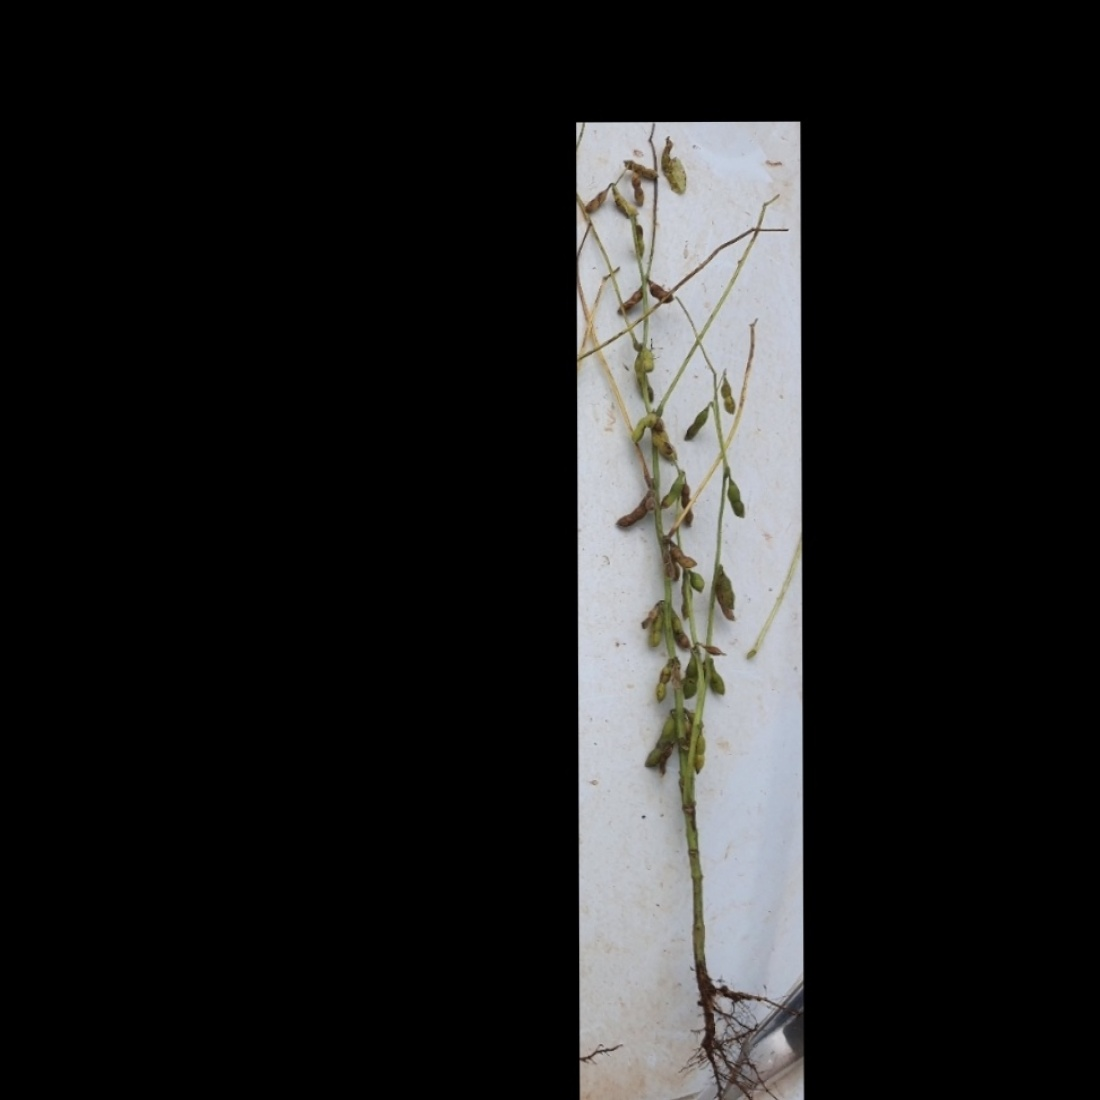pod: (609, 487, 652, 533), (680, 402, 713, 445), (614, 281, 645, 320), (678, 656, 701, 703), (628, 411, 653, 452), (625, 152, 658, 182), (584, 181, 612, 216), (659, 473, 684, 509), (642, 275, 672, 304), (716, 376, 737, 415), (707, 659, 727, 699), (656, 661, 675, 703), (726, 479, 744, 518), (692, 730, 707, 776), (627, 174, 646, 207), (634, 220, 647, 259), (642, 348, 658, 378), (690, 571, 707, 597)
soy: (580, 134, 789, 1100)
